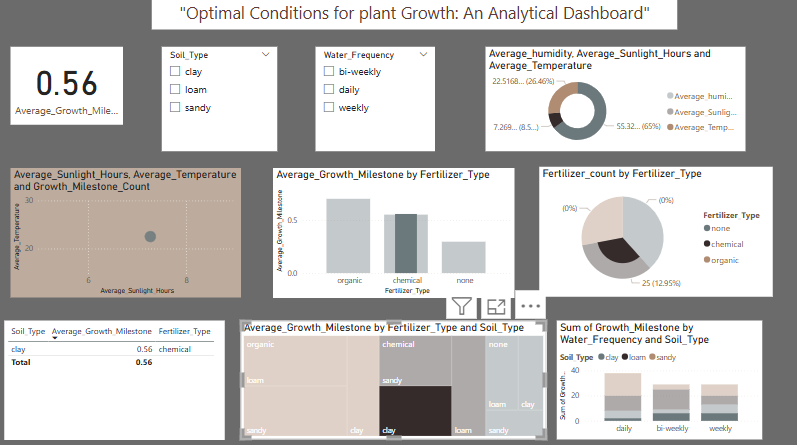

This screenshot's page, from the dashboard's own definition file:
{"tool":"powerbi","page":{"name":"Page 1","canvas":[1280,720],"ordinal":0},"visuals":[{"type":"textbox","box":[245.6,0,841.1,50],"z":0},{"type":"pieChart","fields":{"Y":["plant growth data (2).Fertilizer_count"],"Category":["plant growth data (2).Fertilizer_Type"]},"box":[866.3,270.9,373.3,208.1],"z":1000},{"type":"card","fields":{"Values":["plant growth data (2).Average_Growth_Milestone"]},"box":[20,77.5,180,125],"z":2000},{"type":"slicer","fields":{"Values":["plant growth data (2).Soil_Type"]},"box":[261.2,77.5,185,167.5],"z":3000},{"type":"slicer","fields":{"Values":["plant growth data (2).Water_Frequency"]},"box":[507.5,77.5,191.2,167.5],"z":4000},{"type":"donutChart","fields":{"Y":["plant growth data (2).Average_humidity","plant growth data (2).Average_Sunlight_Hours","plant growth data (2).Average_Temperature"]},"box":[779.1,77.9,416.3,167.4],"z":5000},{"type":"scatterChart","fields":{"X":["plant growth data (2).Average_Sunlight_Hours"],"Y":["plant growth data (2).Average_Temperature"],"Size":["plant growth data (2).Growth_Milestone_Count"]},"box":[20,271.2,368.8,207.5],"z":6000},{"type":"clusteredColumnChart","fields":{"Y":["plant growth data (2).Average_Growth_Milestone"],"Category":["plant growth data (2).Fertilizer_Type"]},"box":[439.5,272.1,386,208.1],"z":7000},{"type":"tableEx","fields":{"Values":["plant growth data (2).Soil_Type","plant growth data (2).Average_Growth_Milestone","plant growth data (2).Fertilizer_Type"]},"box":[10,515,352.5,191.2],"z":8000},{"type":"treemap","fields":{"Values":["plant growth data (2).Average_Growth_Milestone"],"Group":["plant growth data (2).Fertilizer_Type"],"Details":["plant growth data (2).Soil_Type"]},"box":[388,516,490,190],"z":9000},{"type":"lineStackedColumnComboChart","fields":{"Category":["plant growth data (2).Water_Frequency"],"Series":["plant growth data (2).Soil_Type"],"Y":["Sum(plant growth data (2).Growth_Milestone)"]},"box":[894.2,515.1,329.1,190.7],"z":10000}]}

Visuals, with their boxes in screenshot pixels (x1, y1, x2, y2), scaled from the page's 1280x720 canvas onto the 797x445 screenshot:
textbox: box=[153, 0, 677, 31]
pieChart - plant growth data (2).Fertilizer_count x plant growth data (2).Fertilizer_Type: box=[539, 167, 772, 296]
card - plant growth data (2).Average_Growth_Milestone: box=[12, 48, 125, 125]
slicer - plant growth data (2).Soil_Type: box=[163, 48, 278, 151]
slicer - plant growth data (2).Water_Frequency: box=[316, 48, 435, 151]
donutChart - plant growth data (2).Average_humidity x plant growth data (2).Average_Sunlight_Hours: box=[485, 48, 744, 152]
scatterChart - plant growth data (2).Average_Sunlight_Hours x plant growth data (2).Average_Temperature: box=[12, 168, 242, 296]
clusteredColumnChart - plant growth data (2).Average_Growth_Milestone x plant growth data (2).Fertilizer_Type: box=[274, 168, 514, 297]
tableEx - plant growth data (2).Soil_Type x plant growth data (2).Average_Growth_Milestone: box=[6, 318, 226, 436]
treemap - plant growth data (2).Average_Growth_Milestone x plant growth data (2).Fertilizer_Type: box=[242, 319, 547, 436]
lineStackedColumnComboChart - plant growth data (2).Water_Frequency x plant growth data (2).Soil_Type: box=[557, 318, 762, 436]
